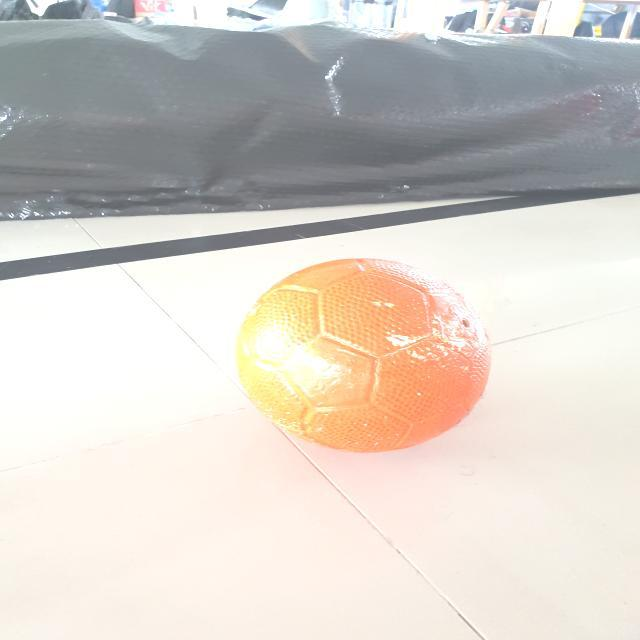bola: (224, 251, 496, 458)
